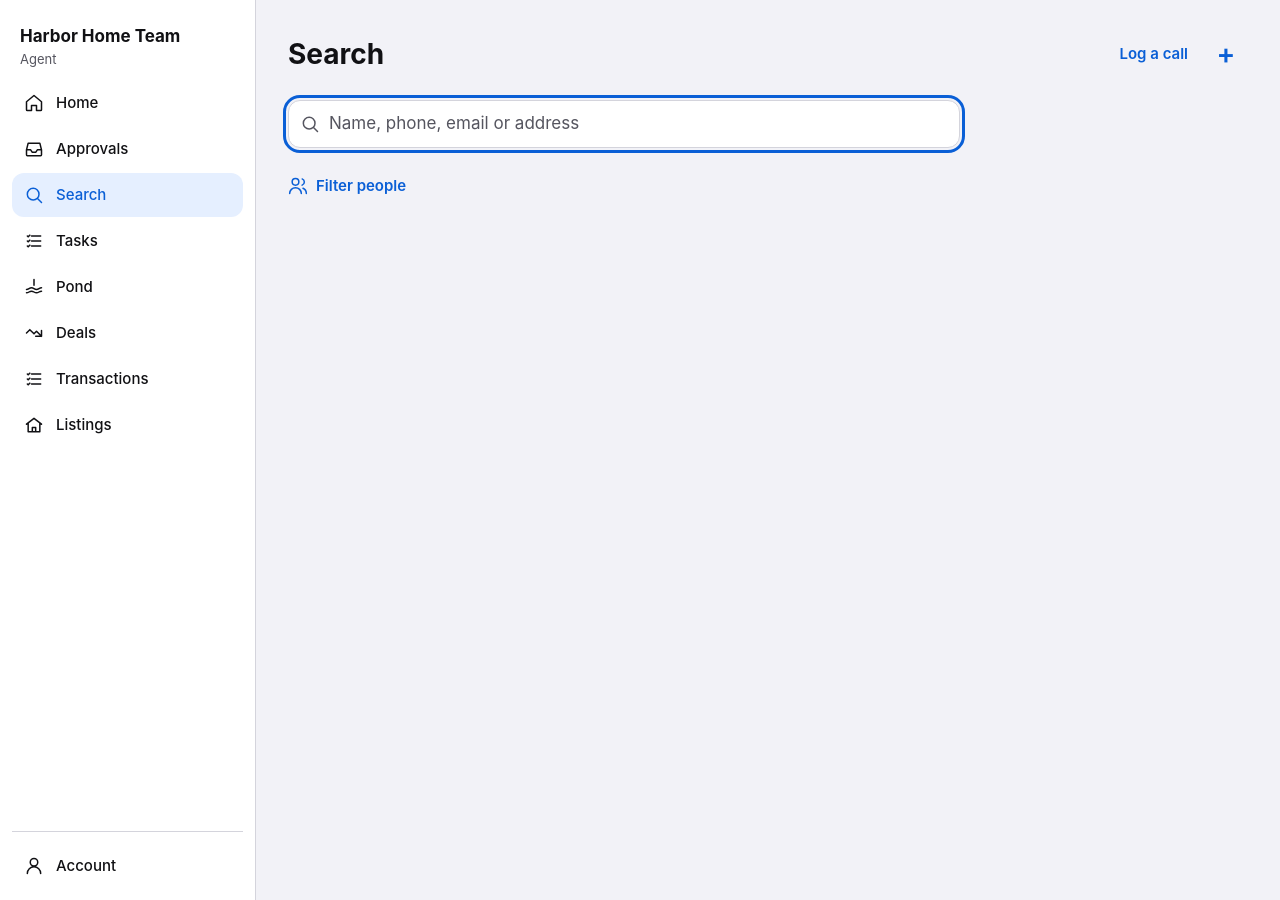
Test: R-TODAY-9: the entry is shell chrome, outside <main> › focus returns to the entry when the Log sheet opened through it is dismissed
The width and height of the screenshot is (1280, 900).
Click the button with aria-label "Log a call or conversation" at (1154, 54), box x1=1112 y1=32 x2=1196 y2=76
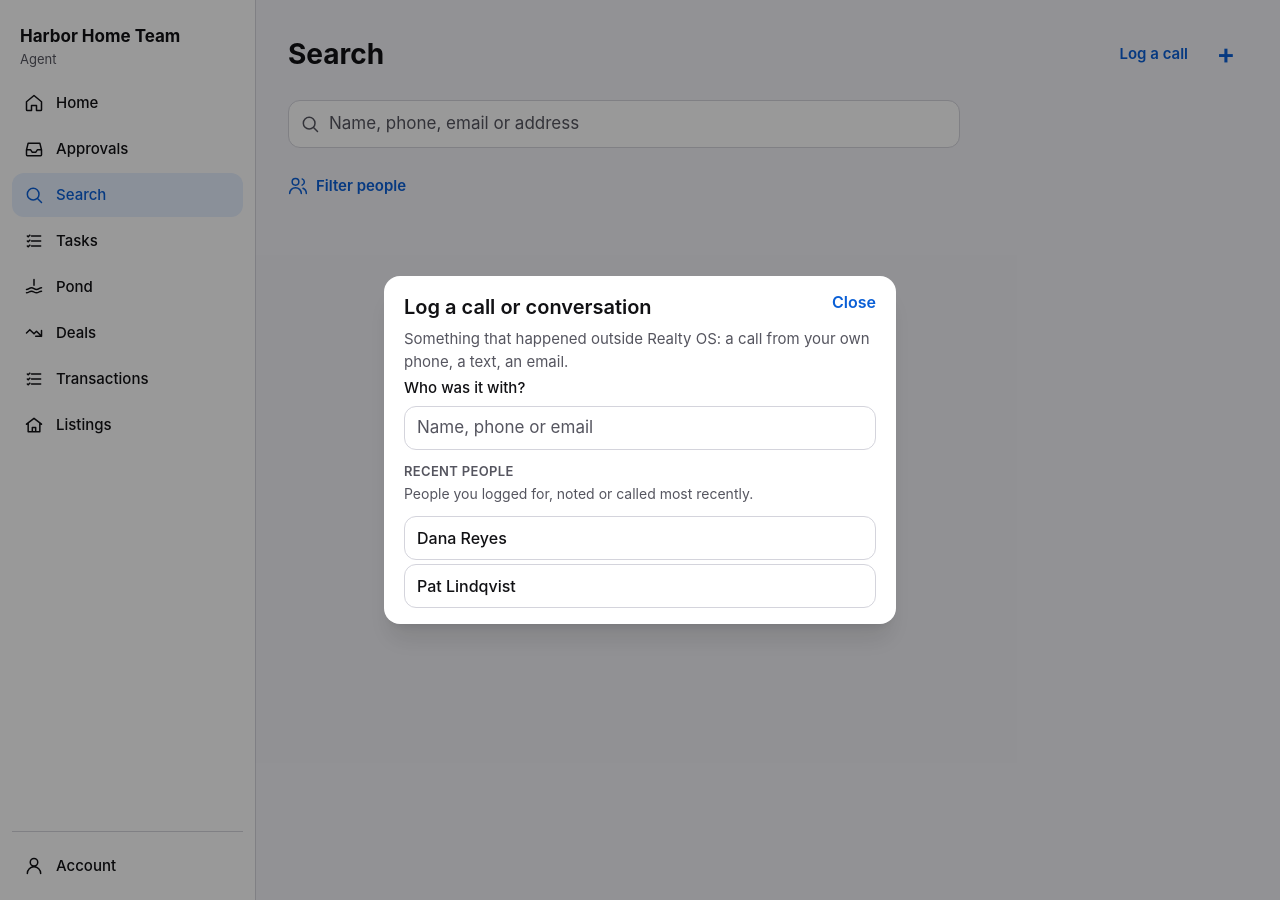
Click the button with aria-label "Log for Pat Lindqvist" at (466, 586), box x1=404 y1=564 x2=876 y2=608
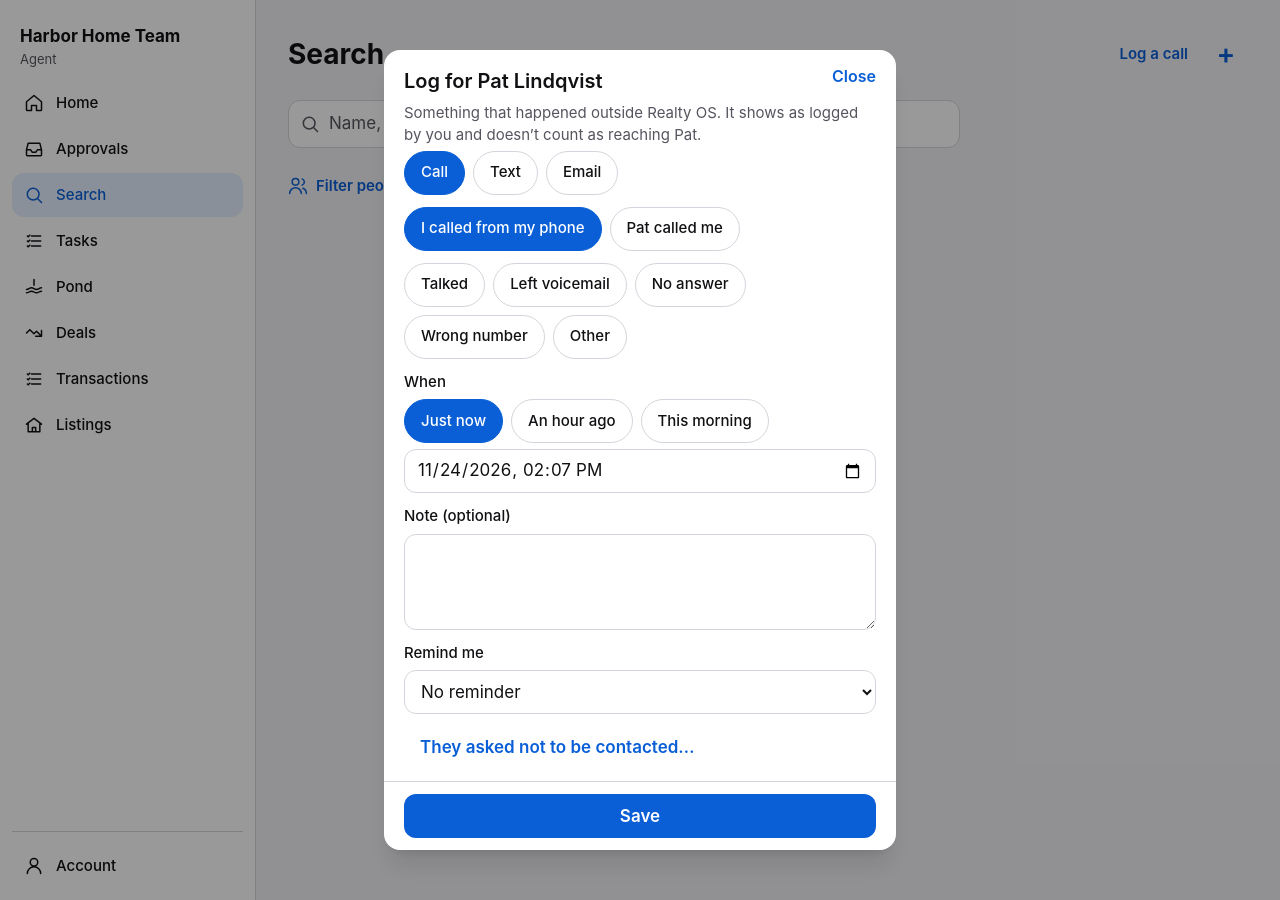
Expected: the dialog "Log for Pat Lindqvist" is shown, x1=384 y1=50 x2=896 y2=850
Press Escape
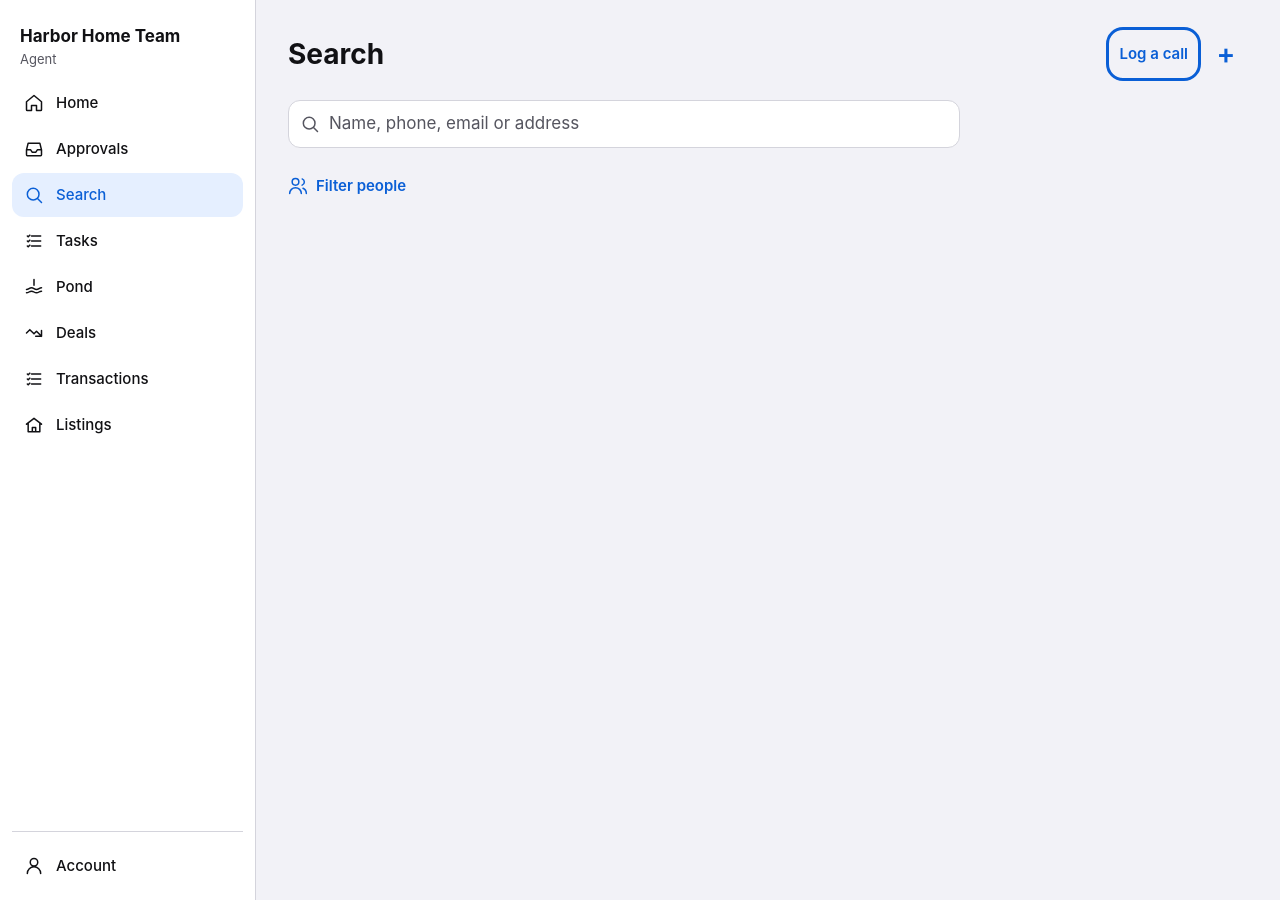
Expected: the dialog is gone
